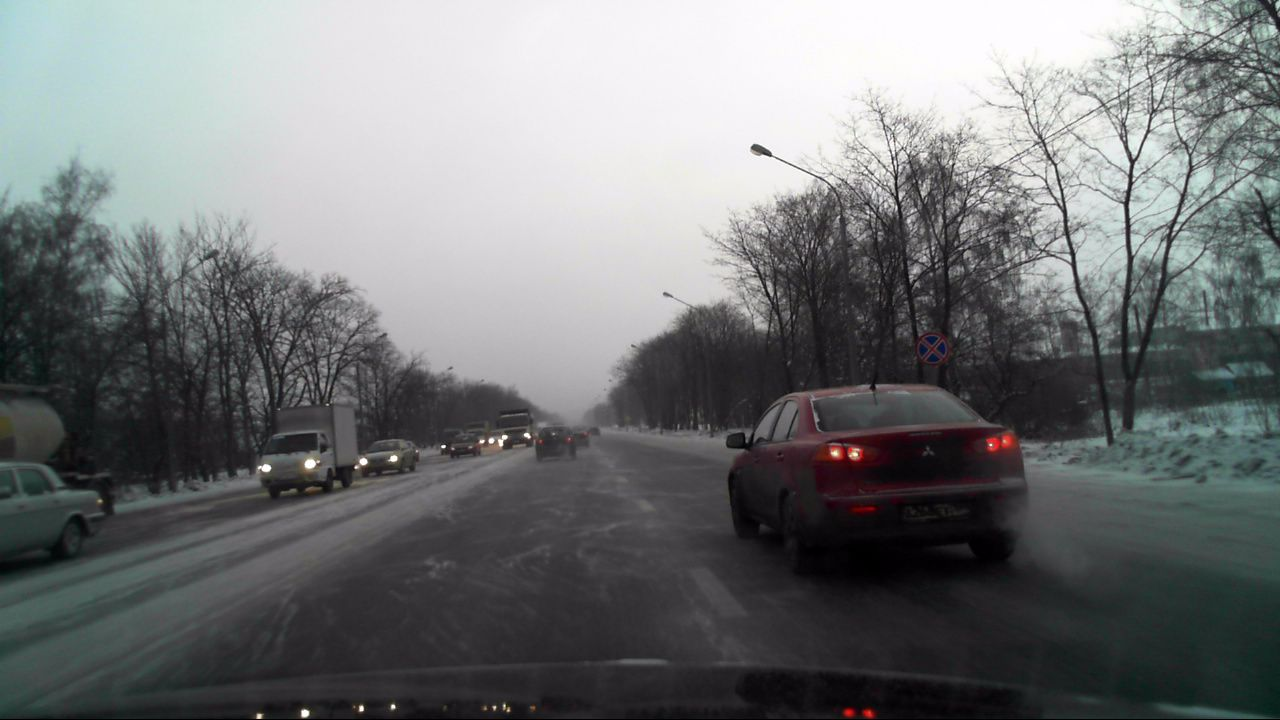No Parking: (914, 330, 948, 366)
